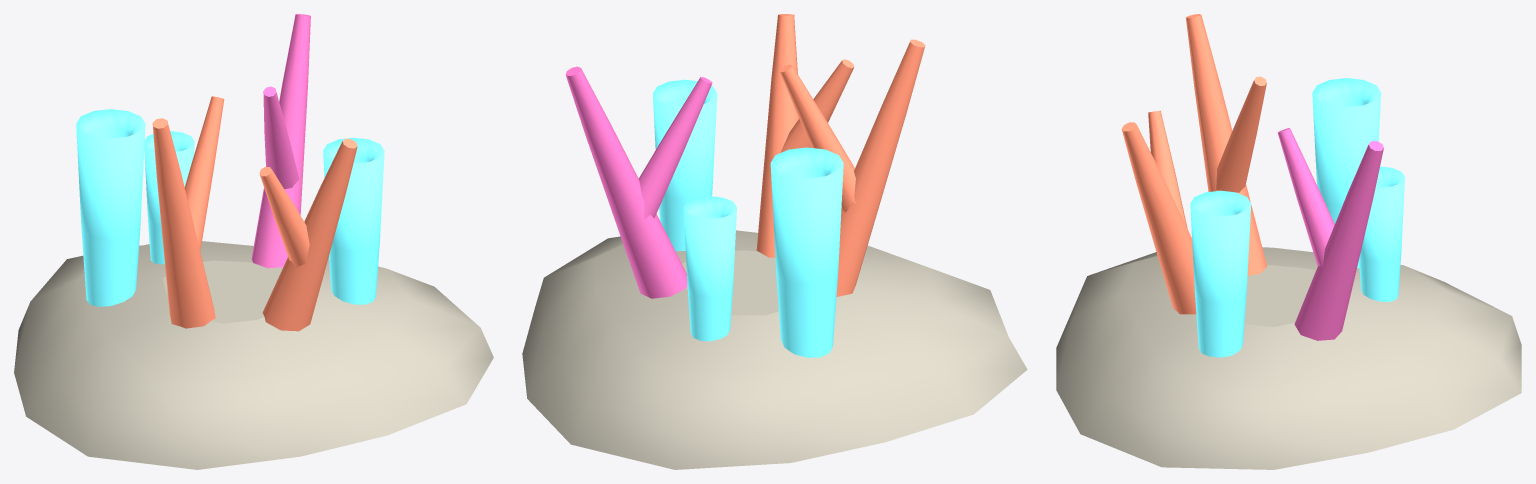
Rendered from prop_coral.glb.
3 views of the same model, side by side, from view 1: azimuth 30°, elevation 25°; view 2: azimuth 150°, elevation 25°; view 3: azimuth 270°, elevation 25° (orthographic). The views are drawn at different scales.
Parts seen in each view (by area): view 1: Body; view 2: Body; view 3: Body.
Boxes of the visible parts, bbox=[...] form: Body: bbox=[14, 14, 493, 469]; Body: bbox=[522, 14, 1027, 469]; Body: bbox=[1056, 14, 1521, 469].
Size of the model in its own units: 0.72 by 0.4988 by 0.7019.
